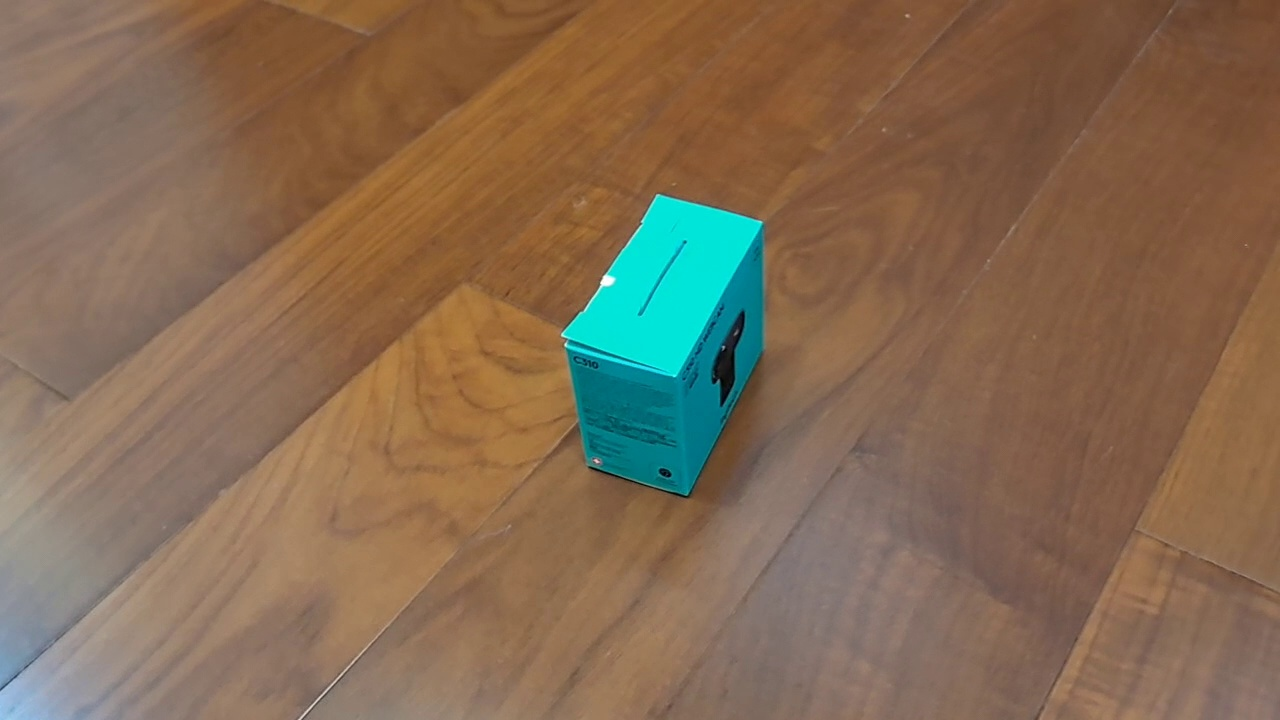webcam: (560, 192, 766, 498)
